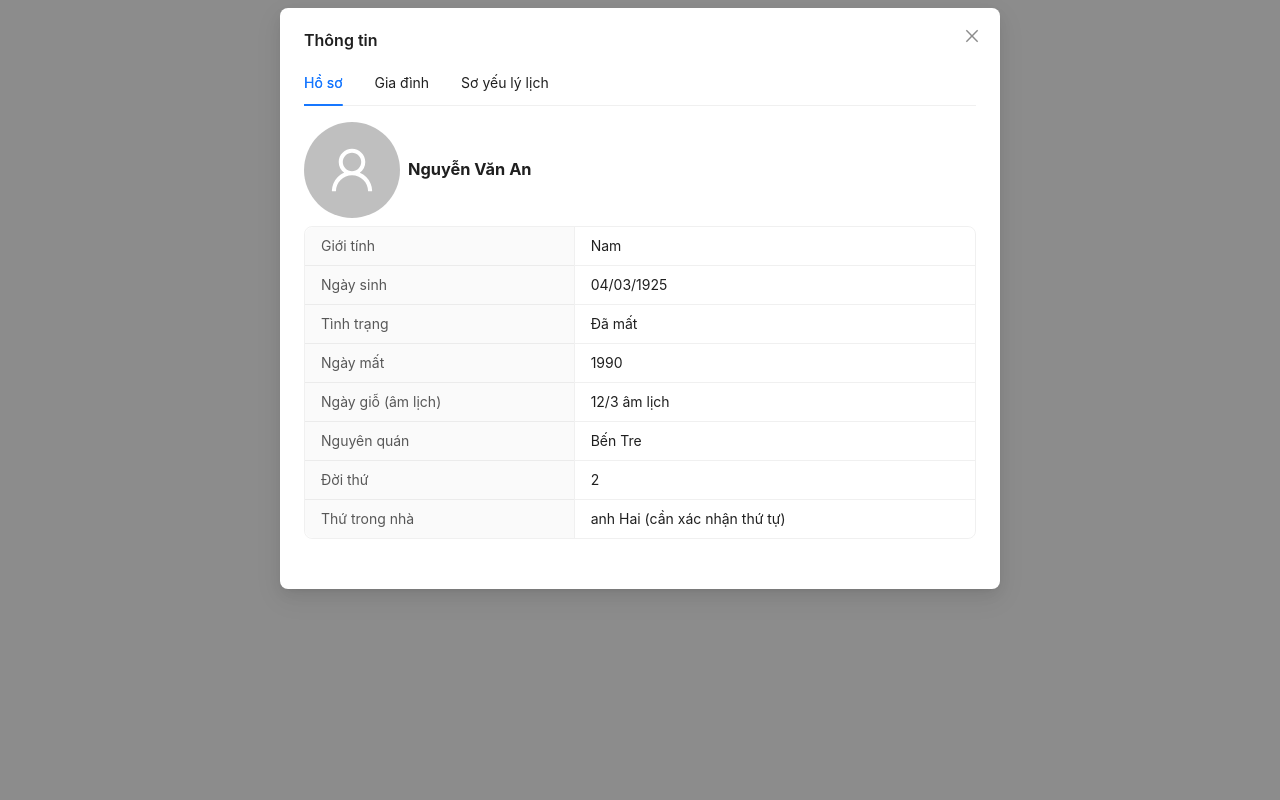
Test: tab Sơ yếu lý lịch render định dạng cơ bản
Expected: the heading "Nguyễn Văn An" is shown, [408,157,532,183]
Click the tab "Sơ yếu lý lịch" at (505, 83), box [461,72,549,94]
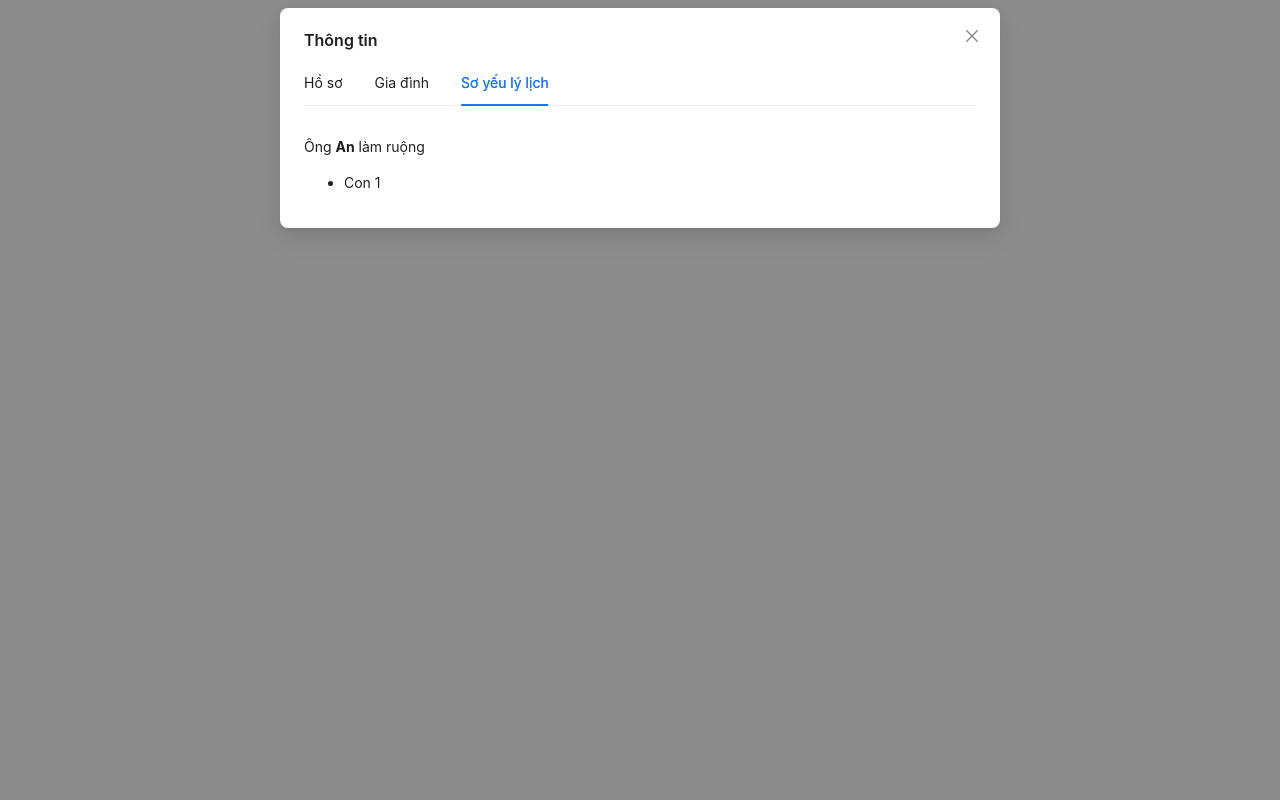
Expected: the text "An" is shown, [336,138,355,155]
Expected: the number of list items is 1, [344,174,380,191]
